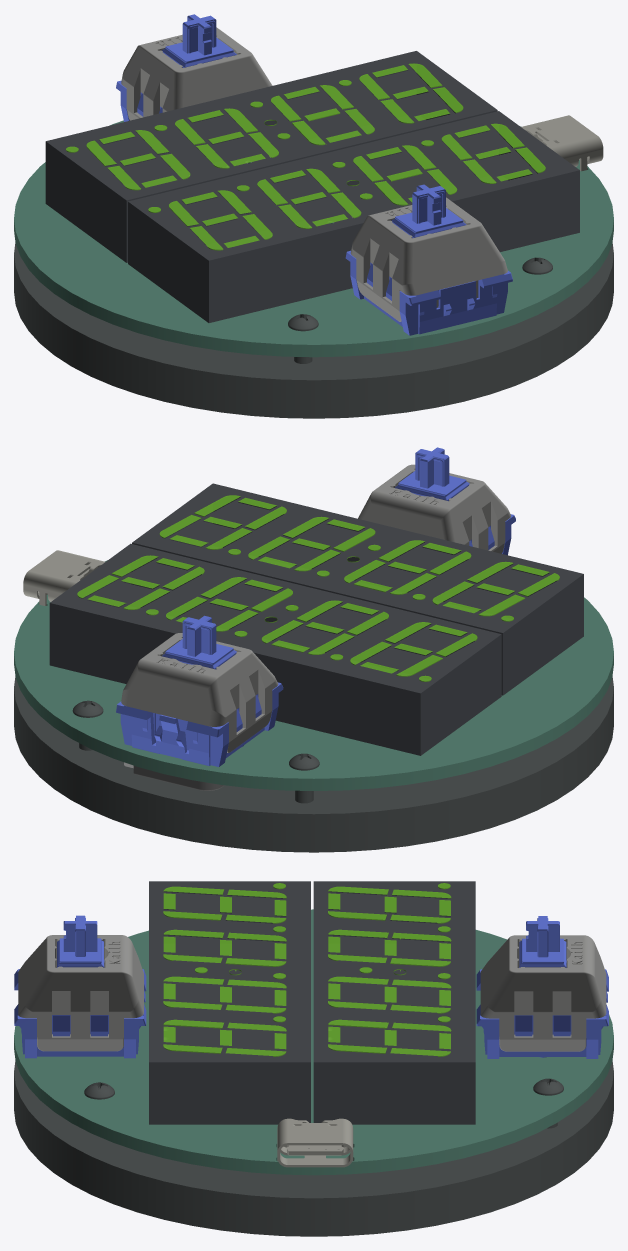
File: chessClock.glb
3 renders of one model, top to bottom at view 1: azimuth 30°, elevation 25°; view 2: azimuth 150°, elevation 25°; view 3: azimuth 270°, elevation 25°, orthographic.
Parts seen in each view (by area): view 1: Mesh_56, Mesh_55, Shape_IndexedFaceSet.002, Shape_IndexedFaceSet.314, Shape_IndexedFaceSet.311, Mesh_5, Mesh_17, Mesh_1, Shape_IndexedFaceSet.006, Shape_IndexedFaceSet.310, Shape_IndexedFaceSet.242, Mesh_16 (+8 smaller); view 2: Mesh_56, Mesh_55, Shape_IndexedFaceSet.314, Shape_IndexedFaceSet.002, Shape_IndexedFaceSet.004, Mesh_17, Mesh_5, Mesh_13, Shape_IndexedFaceSet.006, Shape_IndexedFaceSet.310, Shape_IndexedFaceSet.156, Mesh_16 (+9 smaller); view 3: Mesh_56, Mesh_55, Shape_IndexedFaceSet.002, Shape_IndexedFaceSet.314, Mesh_17, Mesh_5, Shape_IndexedFaceSet.003, Shape_IndexedFaceSet.313, Mesh_13, Mesh_1, Shape_IndexedFaceSet.245, Mesh_4 (+6 smaller).
Part boxes in pixels (x1,y1,x2,y2): Mesh_56: (14,243,613,418); Mesh_55: (14,120,613,357); Shape_IndexedFaceSet.002: (46,51,496,200); Shape_IndexedFaceSet.314: (128,111,579,260); Shape_IndexedFaceSet.311: (209,170,579,322); Mesh_5: (350,197,507,321); Mesh_17: (121,27,272,120); Mesh_1: (345,250,512,335); Shape_IndexedFaceSet.006: (45,141,126,262); Shape_IndexedFaceSet.310: (128,202,208,322); Shape_IndexedFaceSet.242: (219,221,569,320); Mesh_16: (162,14,236,67); Mesh_56: (14,676,613,852); Mesh_55: (14,560,613,790); Shape_IndexedFaceSet.314: (132,483,583,632); Shape_IndexedFaceSet.002: (50,543,501,693); Shape_IndexedFaceSet.004: (49,603,420,755); Mesh_17: (121,633,278,752); Mesh_5: (358,464,510,553); Mesh_13: (116,682,283,766); Shape_IndexedFaceSet.006: (420,634,501,755); Shape_IndexedFaceSet.310: (503,574,583,695); Shape_IndexedFaceSet.156: (60,654,409,753); Mesh_16: (162,615,236,669); Mesh_56: (14,1061,613,1236); Mesh_55: (14,909,613,1175); Shape_IndexedFaceSet.002: (313,881,475,1062); Shape_IndexedFaceSet.314: (149,881,310,1062); Mesh_17: (480,935,606,1051); Mesh_5: (18,935,143,1051); Shape_IndexedFaceSet.003: (313,1062,475,1124); Shape_IndexedFaceSet.313: (149,1062,310,1124); Mesh_13: (476,969,608,1058); Mesh_1: (14,969,146,1058); Shape_IndexedFaceSet.245: (159,1109,298,1124); Mesh_4: (57,915,104,967).
Bounding box in the file's own units: 7.23 × 2.44 × 7.08.
